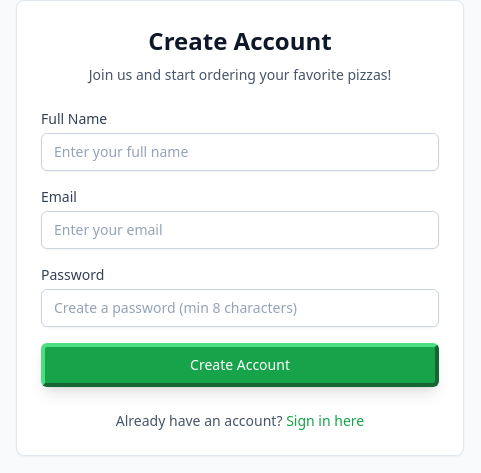
RegisterPage › should show success message with verification token after registration
Type "John Doe" into the field labelled "Full Name" at (240, 152), box top-left (41, 133), bottom-right (439, 171)
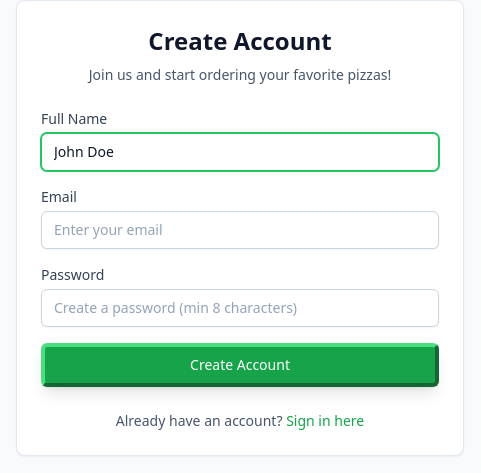
Type "john@example.com" into the field labelled "Email" at (240, 230), box top-left (41, 211), bottom-right (439, 249)
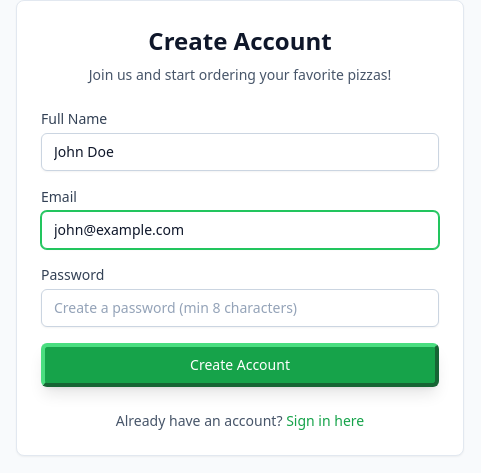
Type "password123" into the password field labelled "Password" at (240, 308), box top-left (41, 289), bottom-right (439, 327)
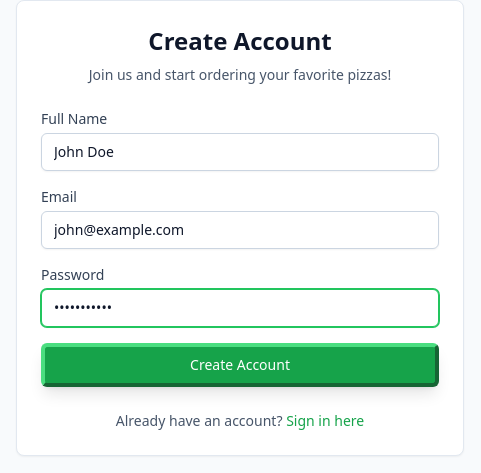
Click the button "Create Account" at (240, 365), box top-left (41, 343), bottom-right (439, 387)
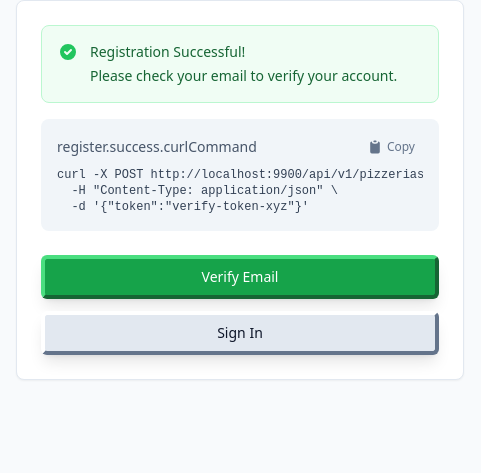
Result: the heading "Registration Successful!" is shown at top-left (90, 42), bottom-right (245, 61)
Result: the text "verify-token-xyz" is shown at top-left (57, 168), bottom-right (423, 214)
